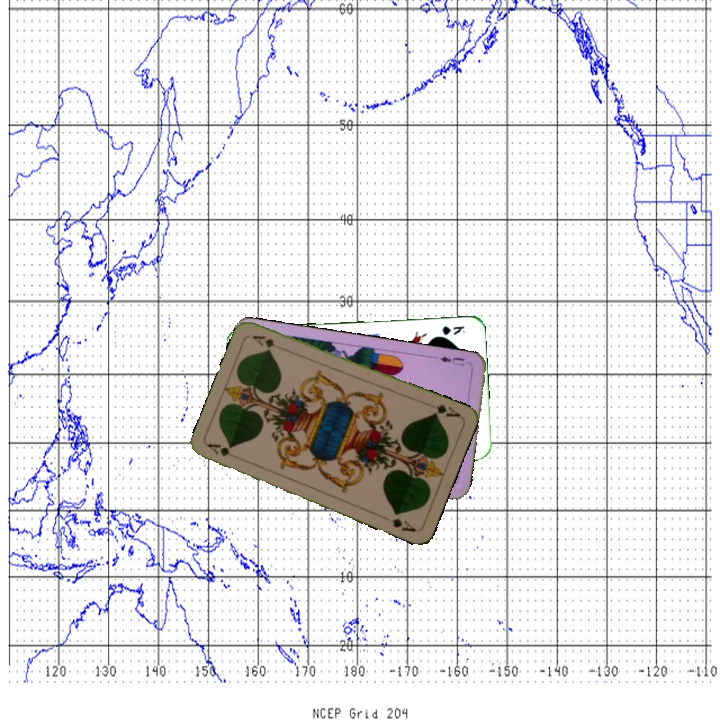EU: (436, 352, 472, 368)
GA: (204, 439, 243, 461), (423, 399, 463, 420)
GK: (438, 322, 467, 338)
